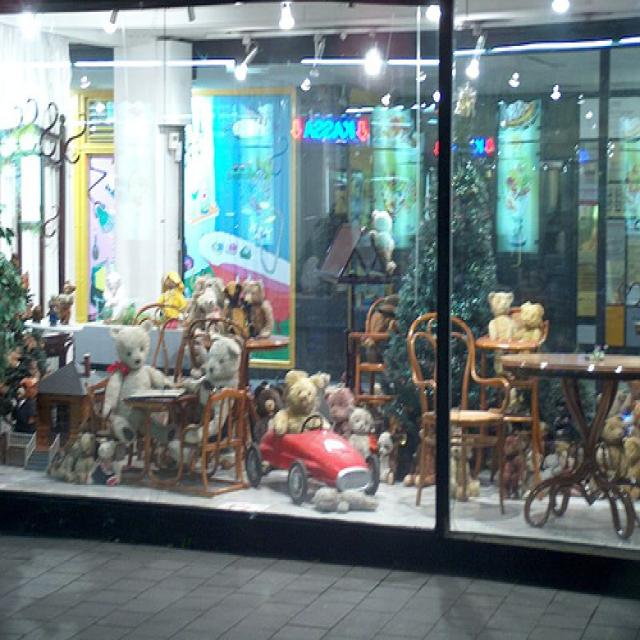Vehicle: (246, 416, 379, 506)
